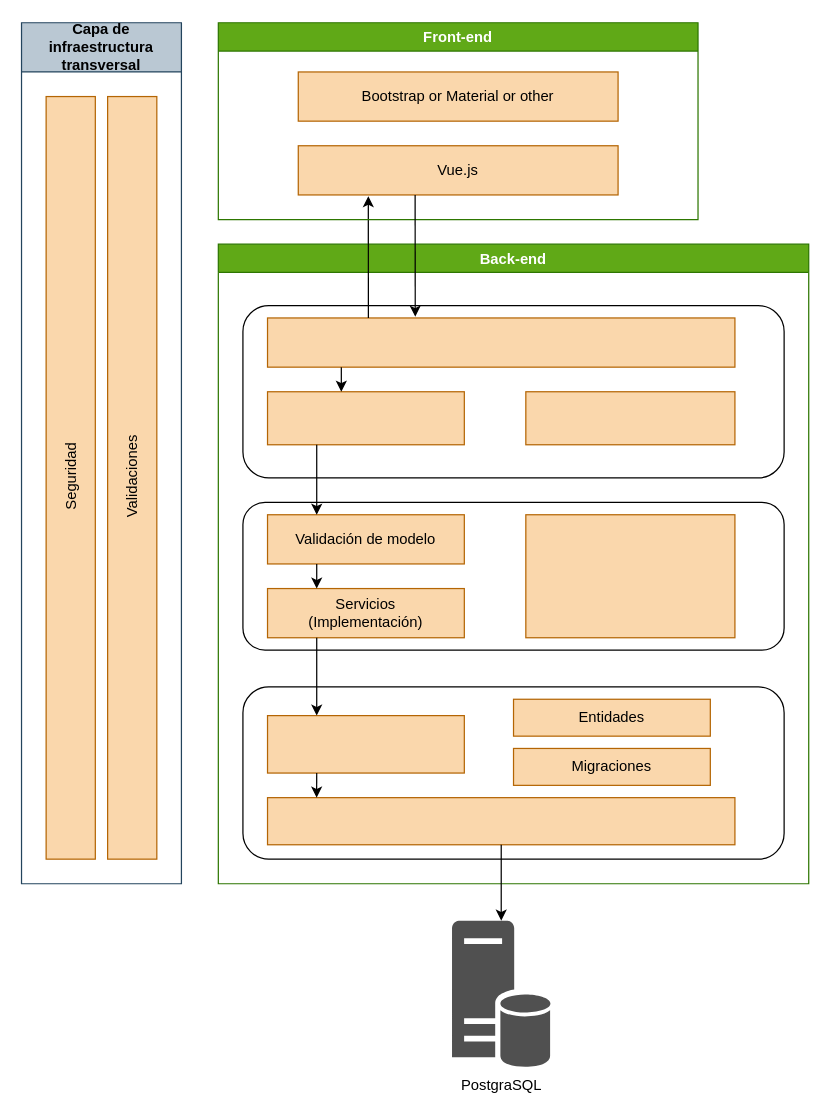
The diagram is 830 pixels wide and 1116 high, and some of its shapes have lost their labels. Here are the shapes that lost their labels. From the top down, the centre of each, then its label:
At point (500, 342): "Jwt (Seguridad)".
At point (365, 418): "Controllers (Views)".
At point (630, 418): "Serializer".
At point (630, 576): "Capa de Negocio".
At point (365, 743): "Repositorio".
At point (500, 820): "Persistencia (Hibernate)".
